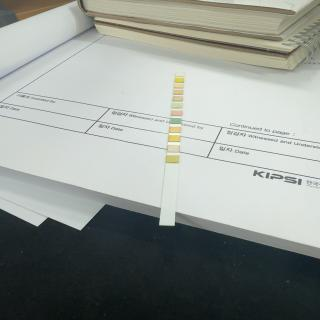mark: (168, 155, 180, 163), (168, 144, 180, 152), (168, 135, 180, 142), (170, 126, 181, 132), (171, 118, 181, 124), (172, 110, 182, 116), (173, 96, 183, 102), (172, 103, 182, 108), (174, 90, 184, 95), (175, 84, 183, 88), (176, 78, 183, 82), (176, 74, 184, 76)
